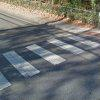Crosswalk: (4, 41, 99, 82)
